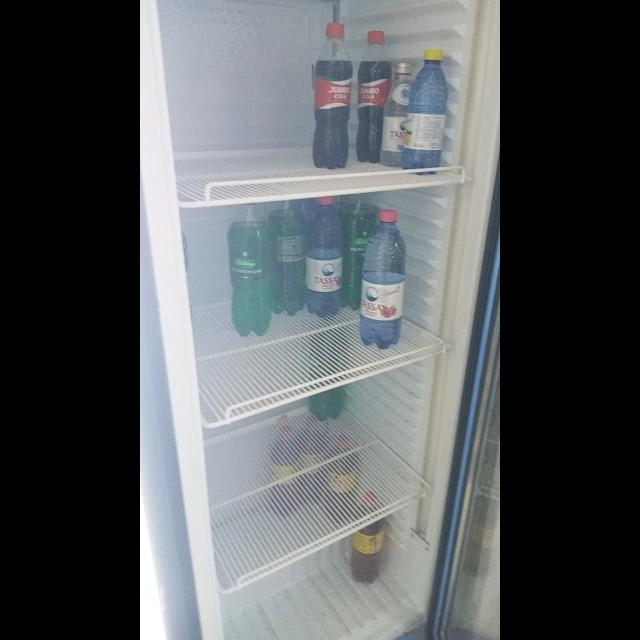Cooling-Display: (140, 1, 500, 640)
